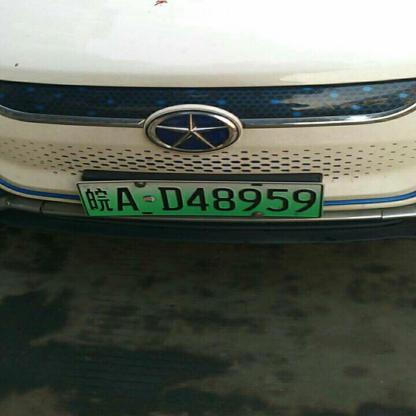lp: (76, 182, 322, 217)
